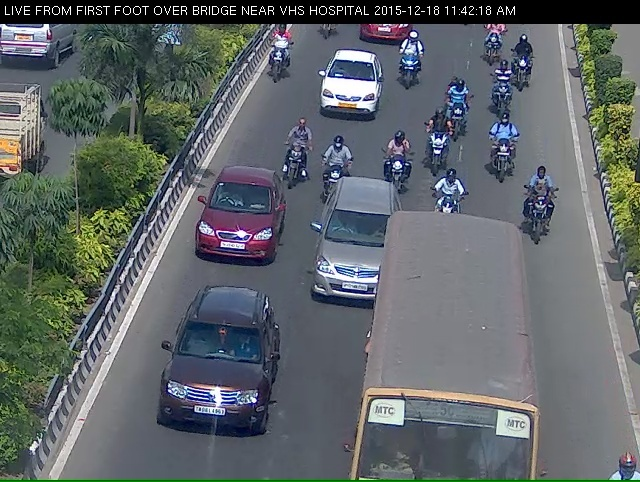Car: (148, 300, 280, 466), (316, 194, 404, 330), (195, 178, 276, 282), (316, 54, 383, 135)
Person: (523, 184, 563, 254), (485, 135, 527, 198), (318, 147, 345, 219), (378, 160, 415, 209), (421, 124, 451, 184), (260, 34, 288, 88), (514, 54, 541, 108), (430, 207, 470, 241), (486, 71, 512, 123), (449, 90, 471, 145), (398, 45, 420, 95)
